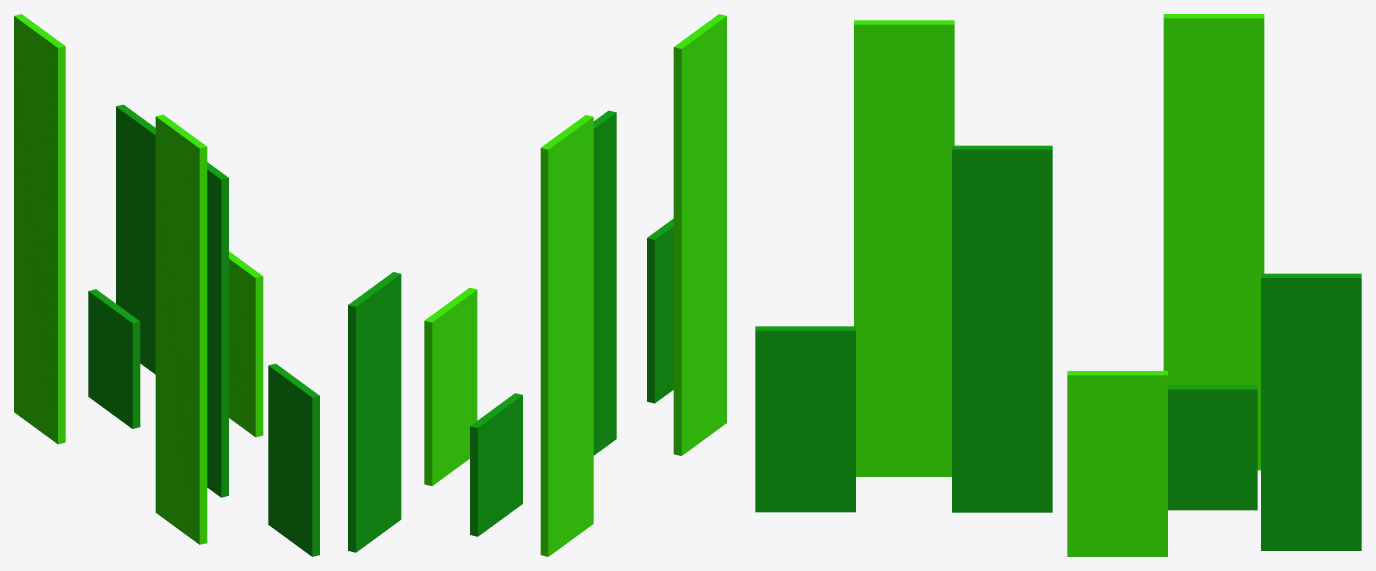
The model's file is grass2.fbx.
3 views of the same model, side by side, from view 1: azimuth 30°, elevation 25°; view 2: azimuth 150°, elevation 25°; view 3: azimuth 270°, elevation 25° (orthographic). The views are drawn at different scales.
Visible parts, largest first — view 1: Cube.013, Cube.014, Cube.018, Cube.016, Cube.012, Cube.015, Cube.017; view 2: Cube.013, Cube.014, Cube.018, Cube.017, Cube.012, Cube.015, Cube.016; view 3: Cube.013, Cube.014, Cube.012, Cube.018, Cube.016, Cube.017, Cube.015.
Boxes of the visible parts, x1,y1,x2,y2 form: Cube.013: [155, 114, 207, 544]; Cube.014: [14, 14, 65, 444]; Cube.018: [116, 104, 155, 374]; Cube.016: [268, 363, 319, 556]; Cube.012: [207, 162, 228, 497]; Cube.015: [88, 289, 140, 428]; Cube.017: [229, 251, 263, 437]; Cube.013: [673, 14, 726, 455]; Cube.014: [540, 115, 593, 556]; Cube.018: [348, 272, 401, 552]; Cube.017: [424, 287, 477, 485]; Cube.012: [593, 110, 616, 455]; Cube.015: [470, 393, 522, 536]; Cube.016: [647, 218, 673, 403]; Cube.013: [854, 20, 954, 476]; Cube.014: [1163, 14, 1264, 470]; Cube.012: [952, 145, 1052, 512]; Cube.018: [1261, 273, 1361, 550]; Cube.016: [755, 326, 855, 512]; Cube.017: [1067, 371, 1167, 556]; Cube.015: [1168, 385, 1257, 510].
Size of the model in its own units: 214 by 500 by 603.
